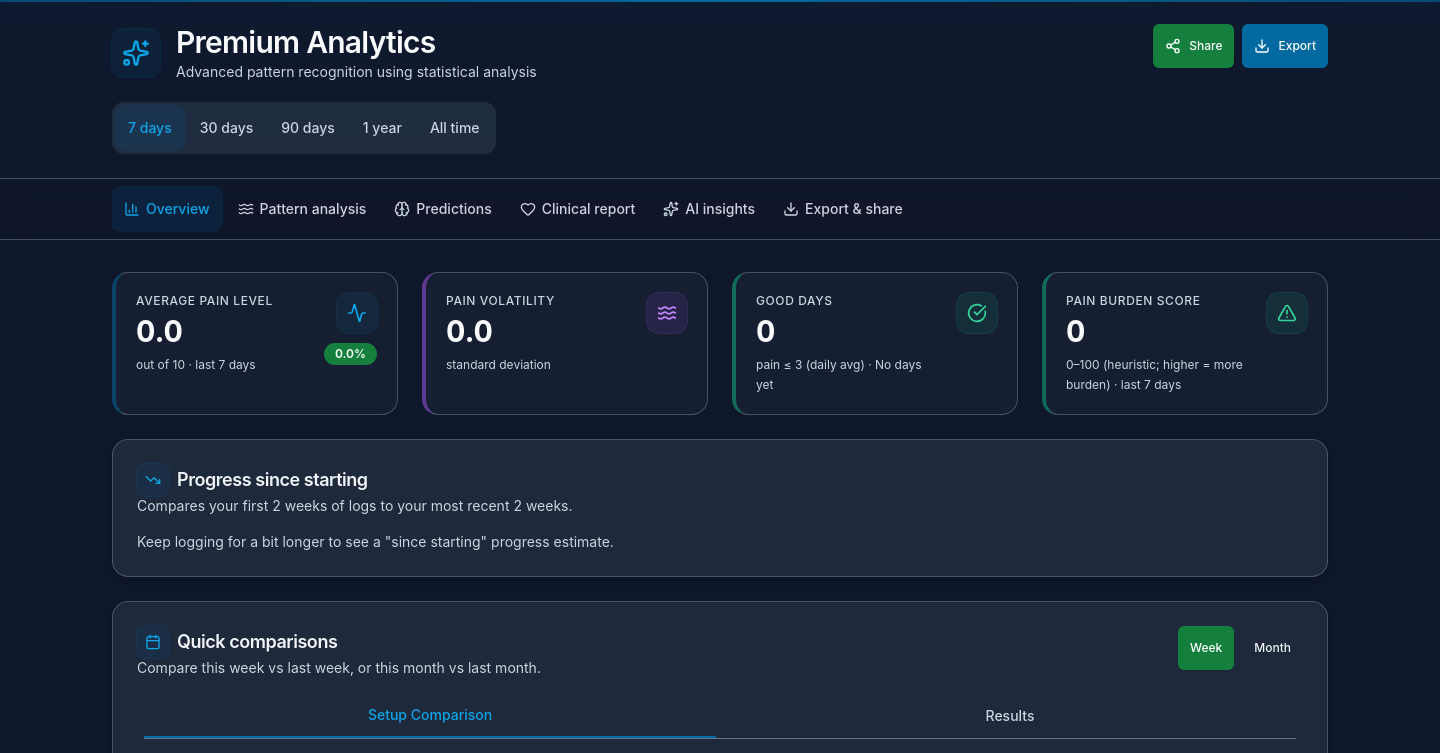
PremiumAnalyticsDashboard Export & Share copy › shows trauma-informed clipboard fallback messaging when copy fails
// Navigate to Export & Share tab and wait for the export view to mount
Click the button "Export & share": [843, 209] box 771,187 -> 915,231
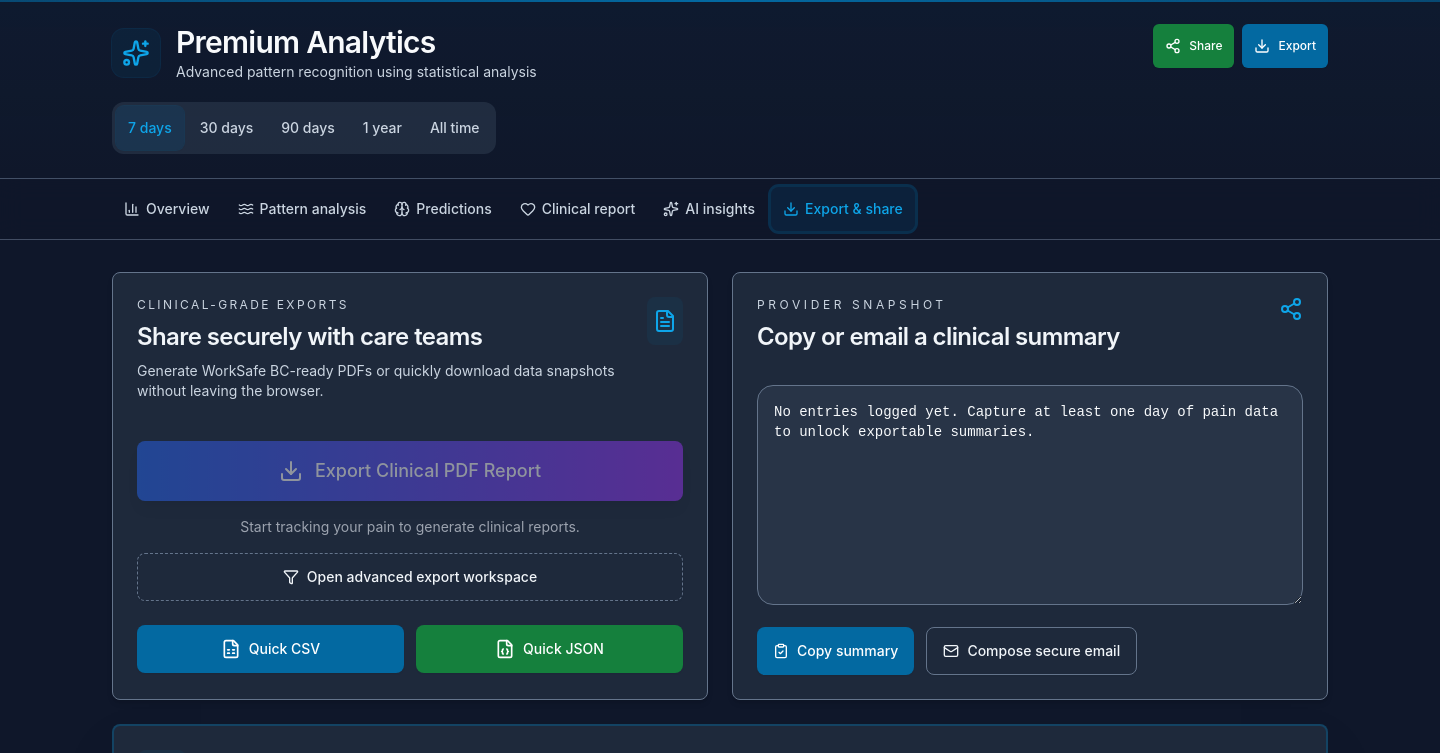
Check: the text box is shown, box 757,385 -> 1303,605
Click the button "Copy summary": [836, 651] box 757,627 -> 914,675
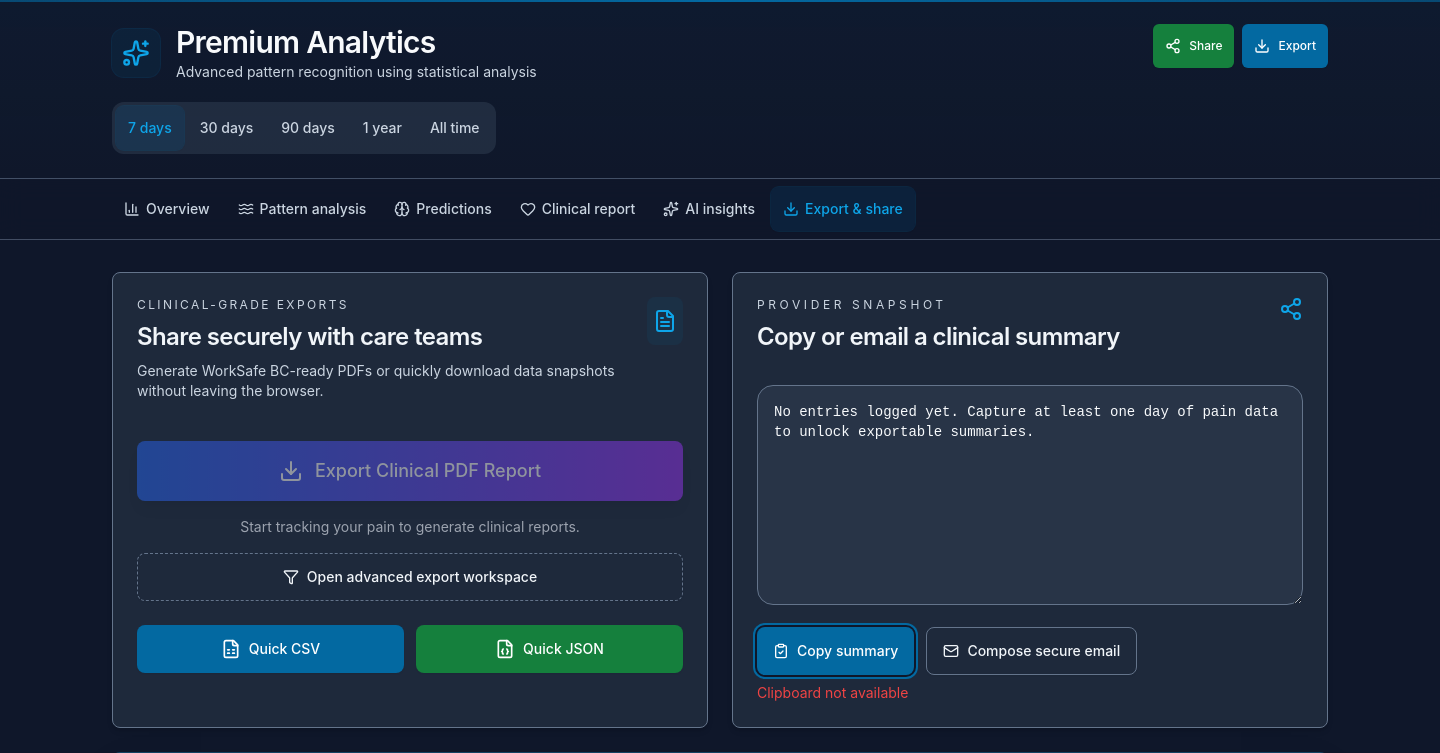
Check: the message "Clipboard not available" is shown, box 757,684 -> 908,701
